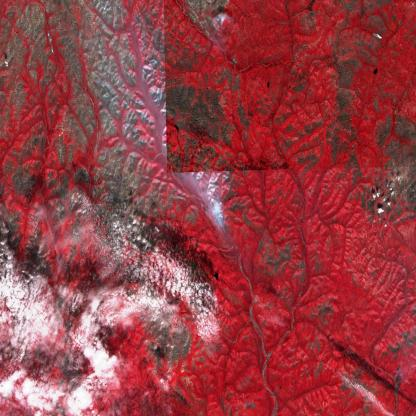fire: (211, 203, 232, 236)
